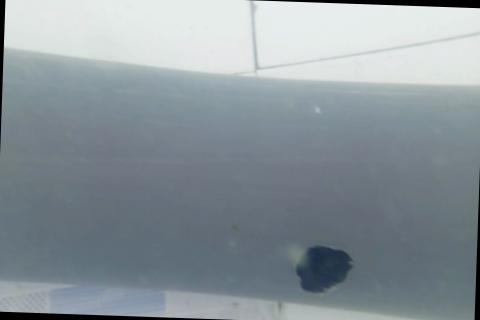kebocoran: (290, 242, 356, 296)
